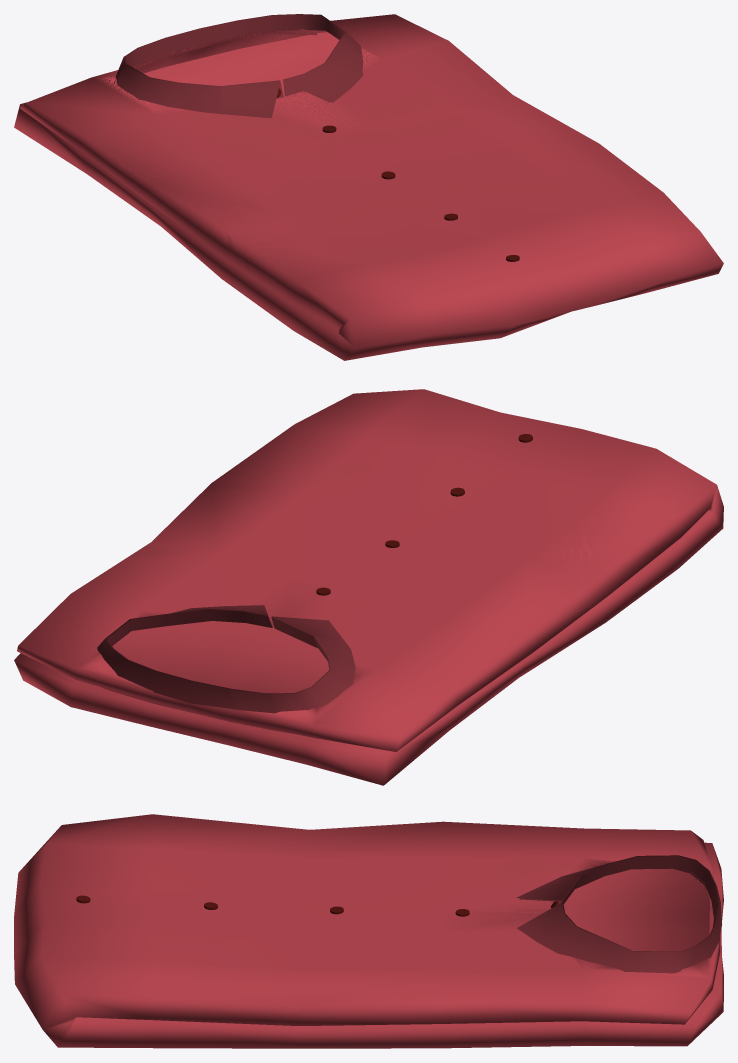
Rendered from cloth4.fbx.
The picture shows the model from 3 angles, top to bottom: view 1: azimuth 30°, elevation 25°; view 2: azimuth 150°, elevation 25°; view 3: azimuth 270°, elevation 25°; orthographic projection. The views are drawn at different scales.
Parts seen in each view (by area): view 1: Object_7; view 2: Object_7; view 3: Object_7.
Boxes of the visible parts, x1,y1,x2,y2 form: Object_7: (14, 14, 723, 360); Object_7: (14, 389, 723, 785); Object_7: (14, 814, 723, 1048).
Bounding box in the file's own units: 2500 × 380 × 4041.
